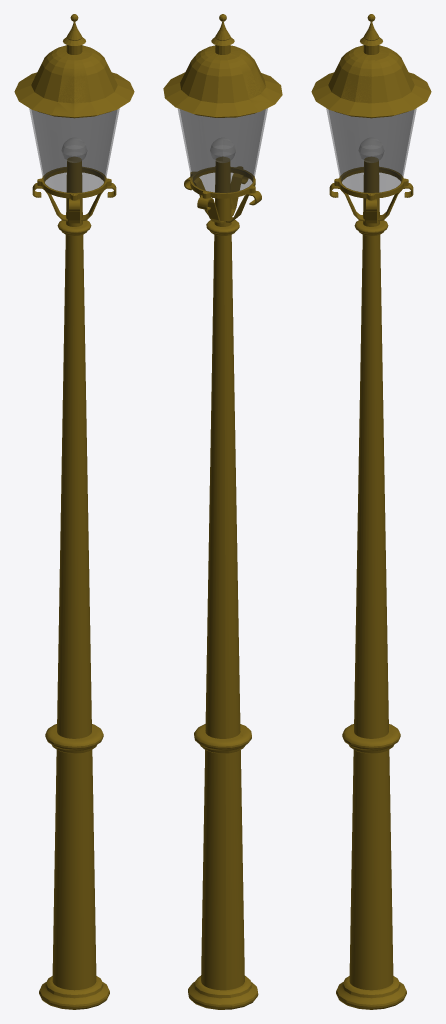
File: streetLamp.FBX
3 renders of one model, left to right at view 1: azimuth 90°, elevation 25°; view 2: azimuth 150°, elevation 25°; view 3: azimuth 270°, elevation 25°, orthographic.
Parts seen in each view (by area): view 1: ha001; view 2: ha001; view 3: ha001.
Part boxes in pixels (<box>): ha001: <box>14,14,134,1009</box>; ha001: <box>163,14,282,1009</box>; ha001: <box>311,14,431,1009</box>.
Bounding box in the file's own units: 276 × 2490 × 276.
